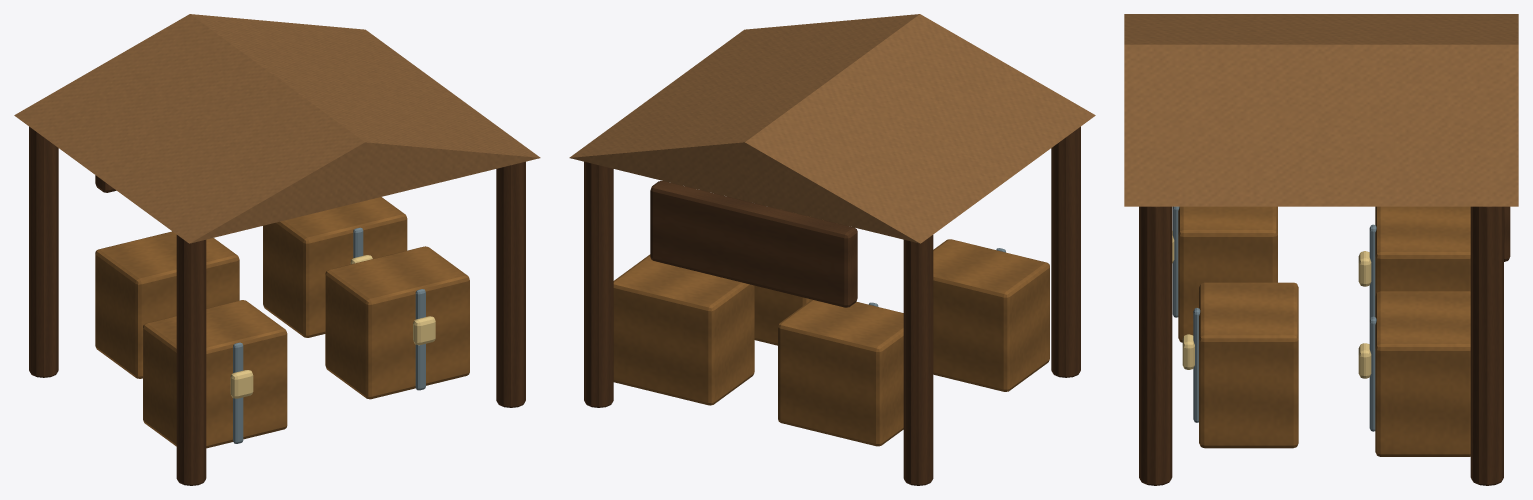
File: spoils.glb
3 renders of one model, left to right at view 1: azimuth 30°, elevation 25°; view 2: azimuth 150°, elevation 25°; view 3: azimuth 270°, elevation 25°, orthographic. The views are drawn at different scales.
Parts seen in each view (by area): view 1: trophy_awning, chest.001, chest, chest.003, chest.002, stockade, stockade.002, stockade.001, iron_band, iron_band.001, lock, lock.001; view 2: trophy_awning, chest.003, trophy_board, chest.002, chest, stockade.001, stockade.003, stockade, chest.001; view 3: trophy_awning, chest.001, chest.003, stockade.002, stockade.003, chest, chest.002, iron_band.003, iron_band, iron_band.001, iron_band.002, lock.002 (+2 smaller).
Part boxes in pixels (box(x1,y1,x2,y2)): trophy_awning: box(14, 14, 540, 243); chest.001: box(325, 246, 469, 399); chest: box(143, 300, 287, 448); chest.003: box(263, 197, 407, 337); chest.002: box(95, 231, 239, 378); stockade: box(176, 235, 206, 485); stockade.002: box(496, 161, 525, 407); stockade.001: box(29, 126, 58, 377); iron_band: box(233, 342, 243, 443); iron_band.001: box(415, 289, 425, 390); lock: box(230, 370, 253, 398); lock.001: box(413, 316, 435, 345); trophy_awning: box(569, 14, 1095, 243); chest.003: box(613, 254, 754, 405); trophy_board: box(650, 181, 857, 307); chest.002: box(778, 299, 903, 446); chest: box(933, 239, 1049, 391); stockade.001: box(903, 235, 933, 485); stockade.003: box(584, 161, 613, 407); stockade: box(1051, 126, 1080, 377); chest.001: box(754, 285, 811, 345); trophy_awning: box(1124, 14, 1518, 206); chest.001: box(1199, 282, 1298, 448); chest.003: box(1375, 291, 1470, 456); stockade.002: box(1139, 206, 1172, 485); stockade.003: box(1470, 206, 1503, 485); chest: box(1178, 206, 1277, 342); chest.002: box(1375, 206, 1470, 295); iron_band.003: box(1369, 316, 1376, 431); iron_band: box(1172, 206, 1179, 317); iron_band.001: box(1193, 308, 1200, 422); iron_band.002: box(1369, 224, 1376, 319); lock.002: box(1358, 251, 1371, 286).
Size of the model in its own units: 2.2 by 1.85 by 1.9.
Materials: 6 (3 with a texture image).
